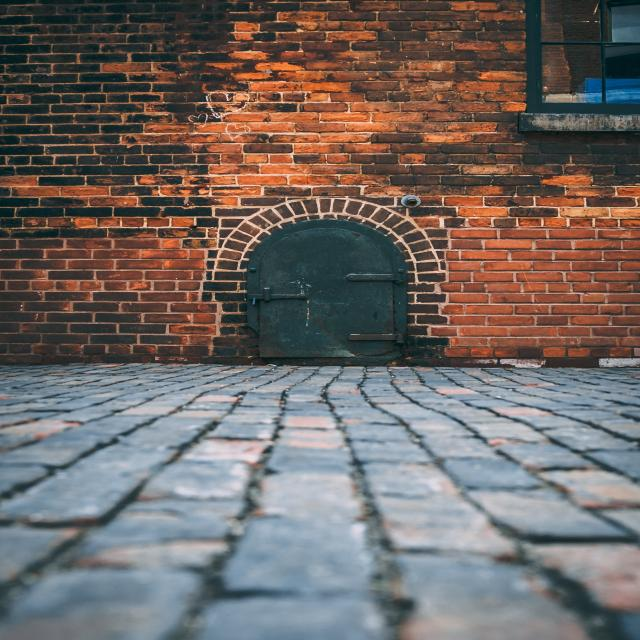Metal: (246, 223, 408, 364)
